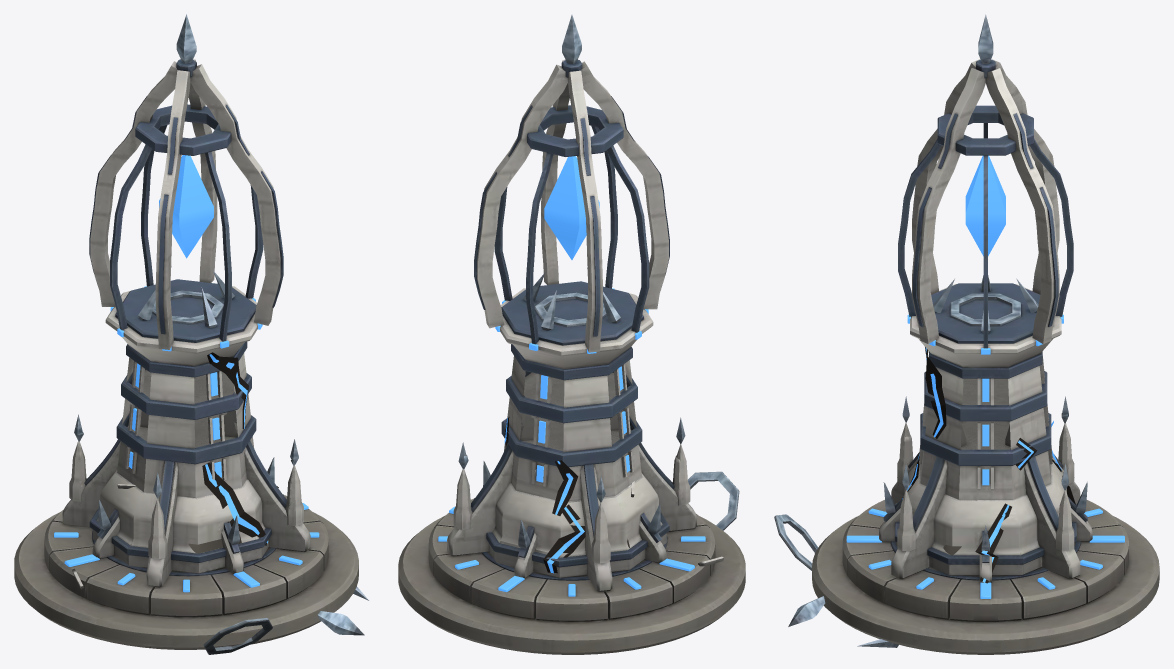
Rendered from needle_inner_aubade.glb.
3 views of the same model, side by side, from view 1: azimuth 30°, elevation 25°; view 2: azimuth 150°, elevation 25°; view 3: azimuth 270°, elevation 25° (orthographic).
Visible parts, largest first — view 1: needle_inner_aubade_upper, needle_inner_aubade_base, needle_inner_aubade_ruin, needle_inner_aubade_core, needle_inner_aubade_dmg2, needle_inner_aubade_chip1, needle_inner_aubade_glow_base, needle_inner_aubade_glow.001; view 2: needle_inner_aubade_upper, needle_inner_aubade_base, needle_inner_aubade_core, needle_inner_aubade_ruin, needle_inner_aubade_chip1, needle_inner_aubade_glow_base, needle_inner_aubade_dmg2, needle_inner_aubade_glow.001, needle_inner_aubade_dmg1, needle_inner_aubade_chip2; view 3: needle_inner_aubade_upper, needle_inner_aubade_base, needle_inner_aubade_ruin, needle_inner_aubade_core, needle_inner_aubade_chip1, needle_inner_aubade_glow_base, needle_inner_aubade_dmg2, needle_inner_aubade_dmg1, needle_inner_aubade_glow.001.
Boxes of the visible parts, x1,y1,x2,y2 form: needle_inner_aubade_upper: (62, 59, 310, 587); needle_inner_aubade_base: (14, 494, 358, 649); needle_inner_aubade_ruin: (65, 432, 368, 654); needle_inner_aubade_core: (159, 155, 213, 258); needle_inner_aubade_dmg2: (202, 352, 268, 545); needle_inner_aubade_chip1: (152, 14, 223, 324); needle_inner_aubade_glow_base: (54, 503, 319, 592); needle_inner_aubade_glow.001: (110, 286, 262, 477); needle_inner_aubade_upper: (447, 59, 696, 591); needle_inner_aubade_base: (398, 498, 745, 654); needle_inner_aubade_core: (544, 156, 599, 259); needle_inner_aubade_ruin: (453, 455, 739, 590); needle_inner_aubade_chip1: (534, 14, 606, 326); needle_inner_aubade_glow_base: (438, 506, 705, 596); needle_inner_aubade_dmg2: (543, 504, 585, 573); needle_inner_aubade_glow.001: (495, 288, 648, 482); needle_inner_aubade_dmg1: (504, 417, 578, 515); needle_inner_aubade_chip2: (541, 290, 620, 403); needle_inner_aubade_upper: (879, 59, 1092, 582); needle_inner_aubade_base: (812, 500, 1159, 654); needle_inner_aubade_ruin: (774, 413, 1120, 647); needle_inner_aubade_core: (965, 155, 1005, 256); needle_inner_aubade_chip1: (950, 14, 1020, 405); needle_inner_aubade_glow_base: (846, 508, 1124, 598); needle_inner_aubade_dmg2: (902, 347, 1075, 504); needle_inner_aubade_dmg1: (975, 421, 1061, 583); needle_inner_aubade_glow.001: (907, 314, 1063, 485).
Bounding box in the file's own units: 2.62 × 4.79 × 2.9.
4 materials, 1 textured.
